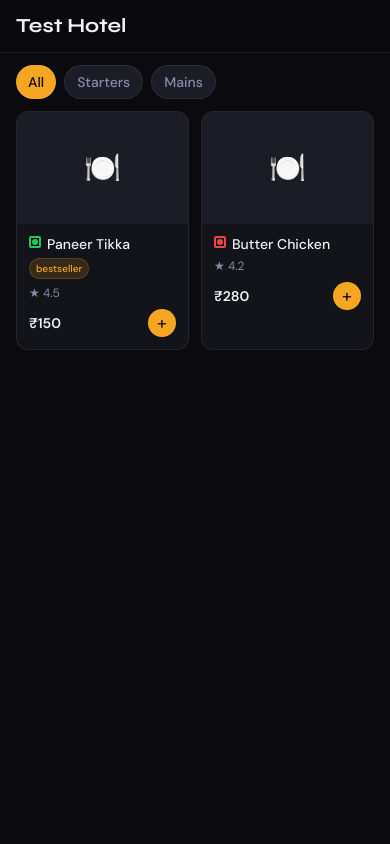
Test case: PF01 - Menu Screen › Customization selections stored in cart item
The image size is (390, 844).
Open customization sheet
Step 1. Click the text "Butter Chicken" → (281, 244), box [232, 235, 330, 253]
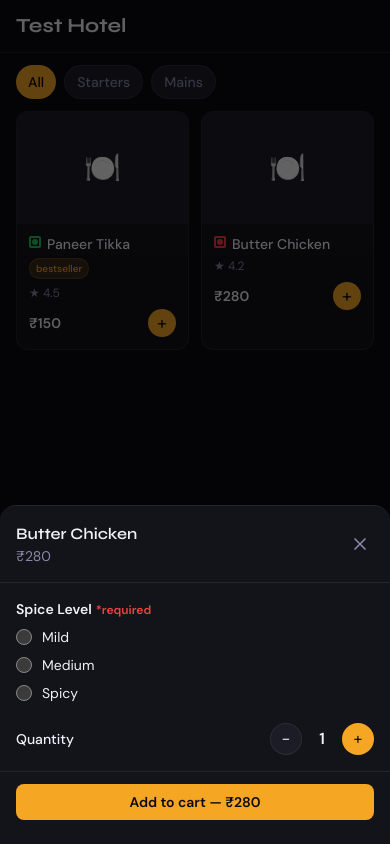
expect the text "Spice Level" is shown: met, box [16, 600, 92, 618]
Select 'Medium' spice level
Step 2. Click the radio button labelled "Medium" → (24, 665), box [16, 657, 32, 673]
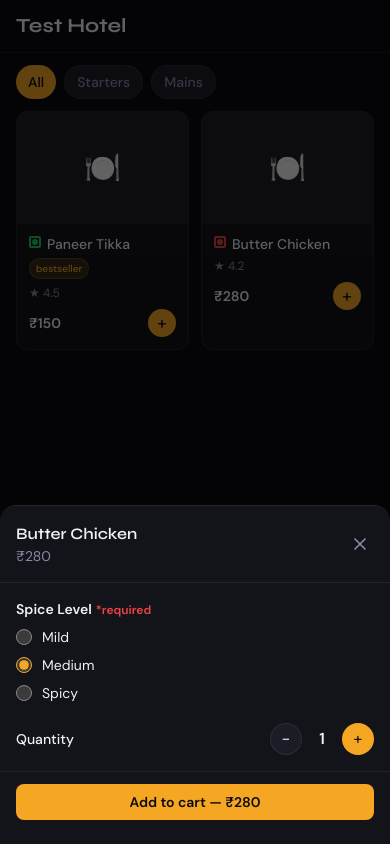
Click Add to cart
Step 3. Click the button "Add to cart — ₹280" → (195, 802), box [16, 784, 374, 820]
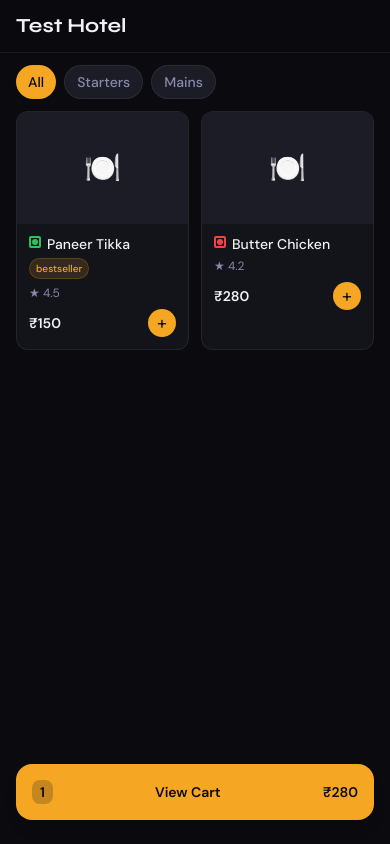
expect the text "Butter Chicken" is shown: met, box [232, 235, 330, 253]
expect the dialog is gone: met
